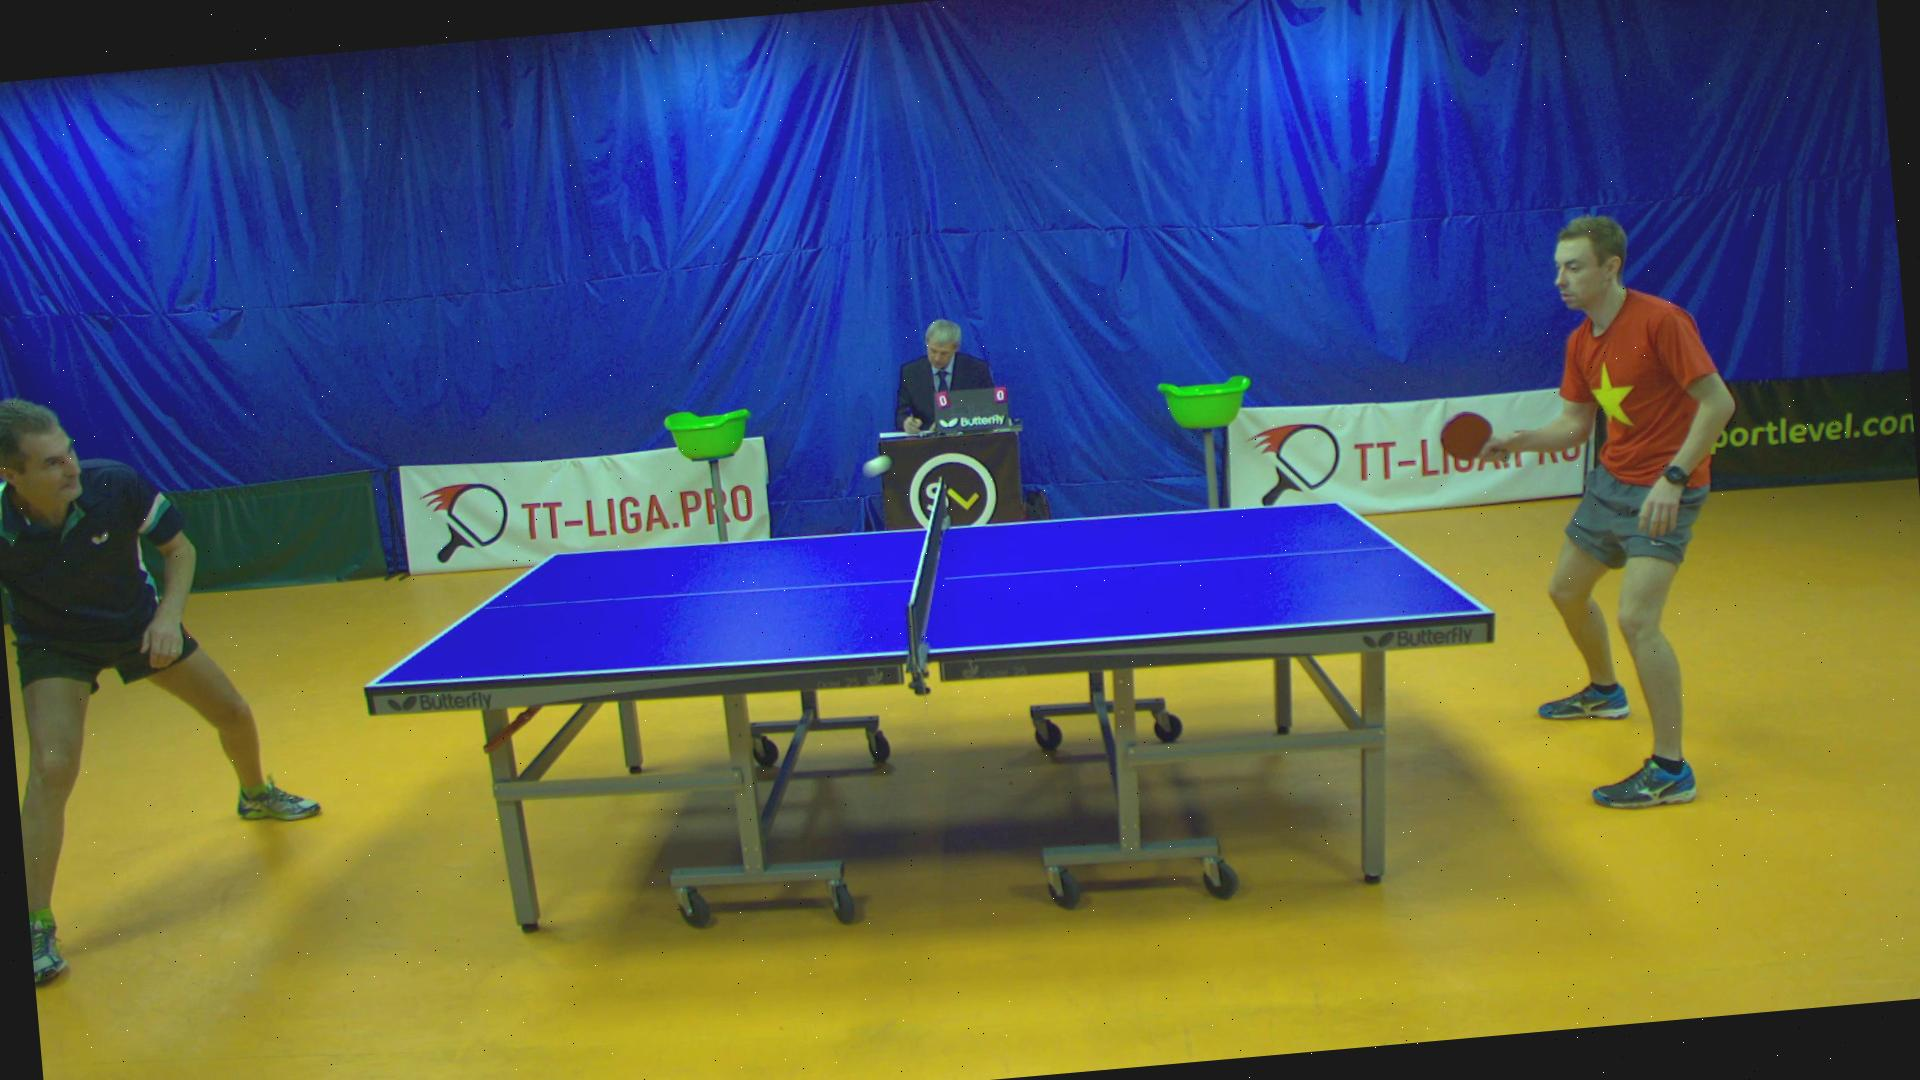ball: (857, 447, 897, 481)
